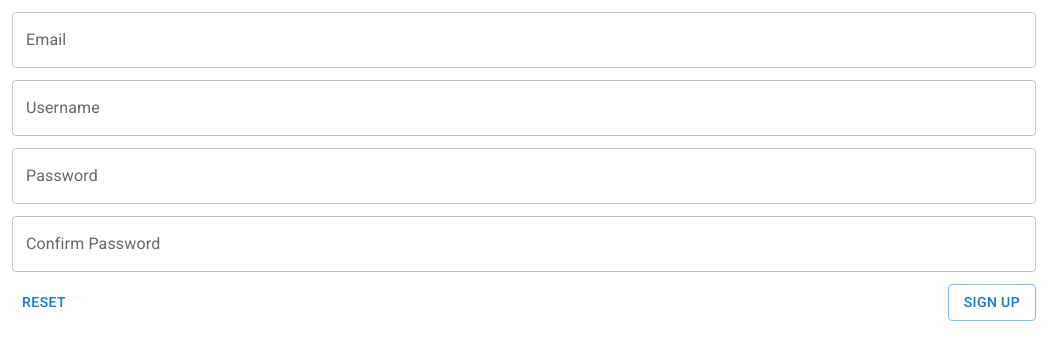
Scenario: Register Component Validations › displays error message when username is less than 3 characters
This screenshot has width=1048, height=360.
# Fill in a username less than 3 characters
Type "us" into the field labelled "Username" at (524, 108), box [12,80,1036,136]
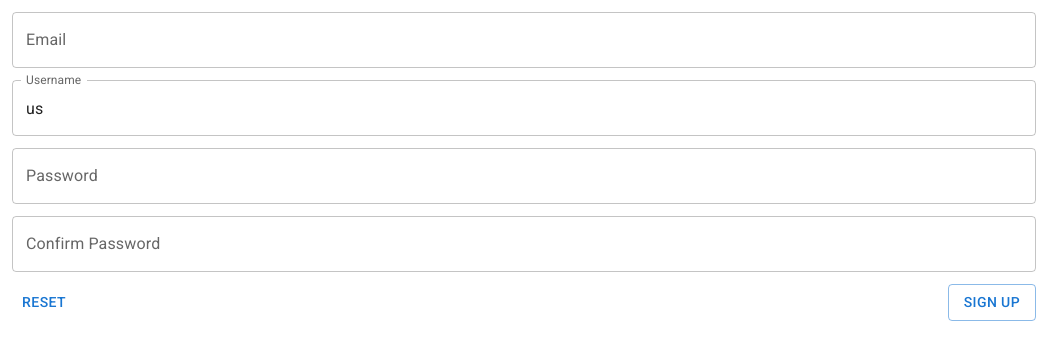
Leave the field labelled "Username", box [12,80,1036,136]
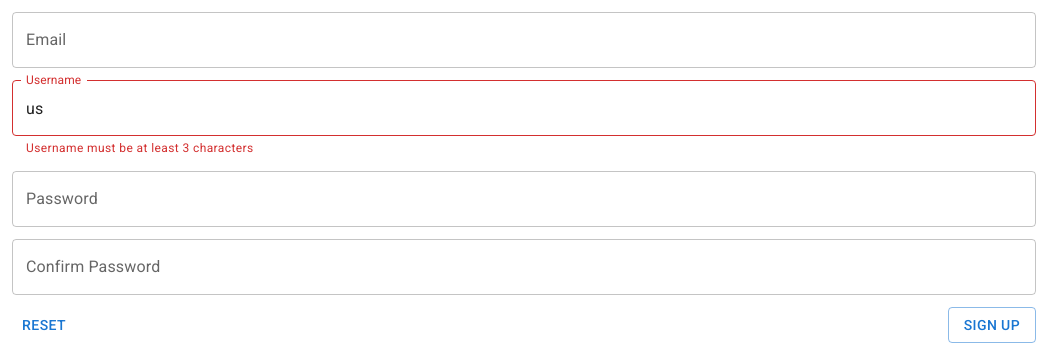
Result: the text "Username must be at least 3 characters" is shown at [26,141,254,155]
